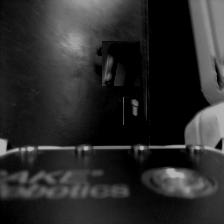Door Handle: (100, 42, 142, 84)
Lock: (123, 97, 142, 125)
